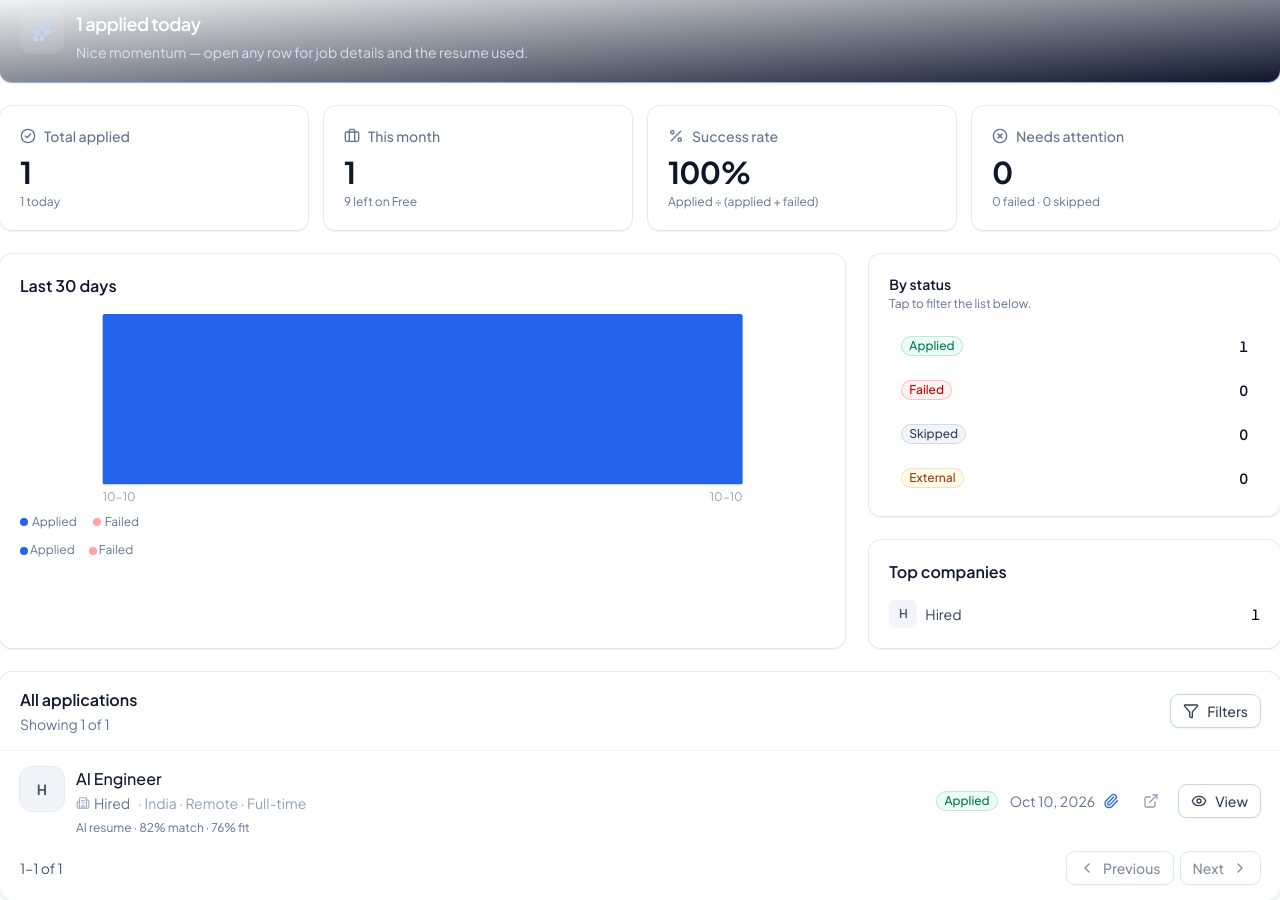
Test: application view › opens a resume popup from the attachment icon next to the date
(page scrolled)
Step 1. Click the button named "Open resume Ada_AI Engineer_Hired_5 years" → {"x": 1111, "y": 802}, box [1099, 790, 1123, 814]
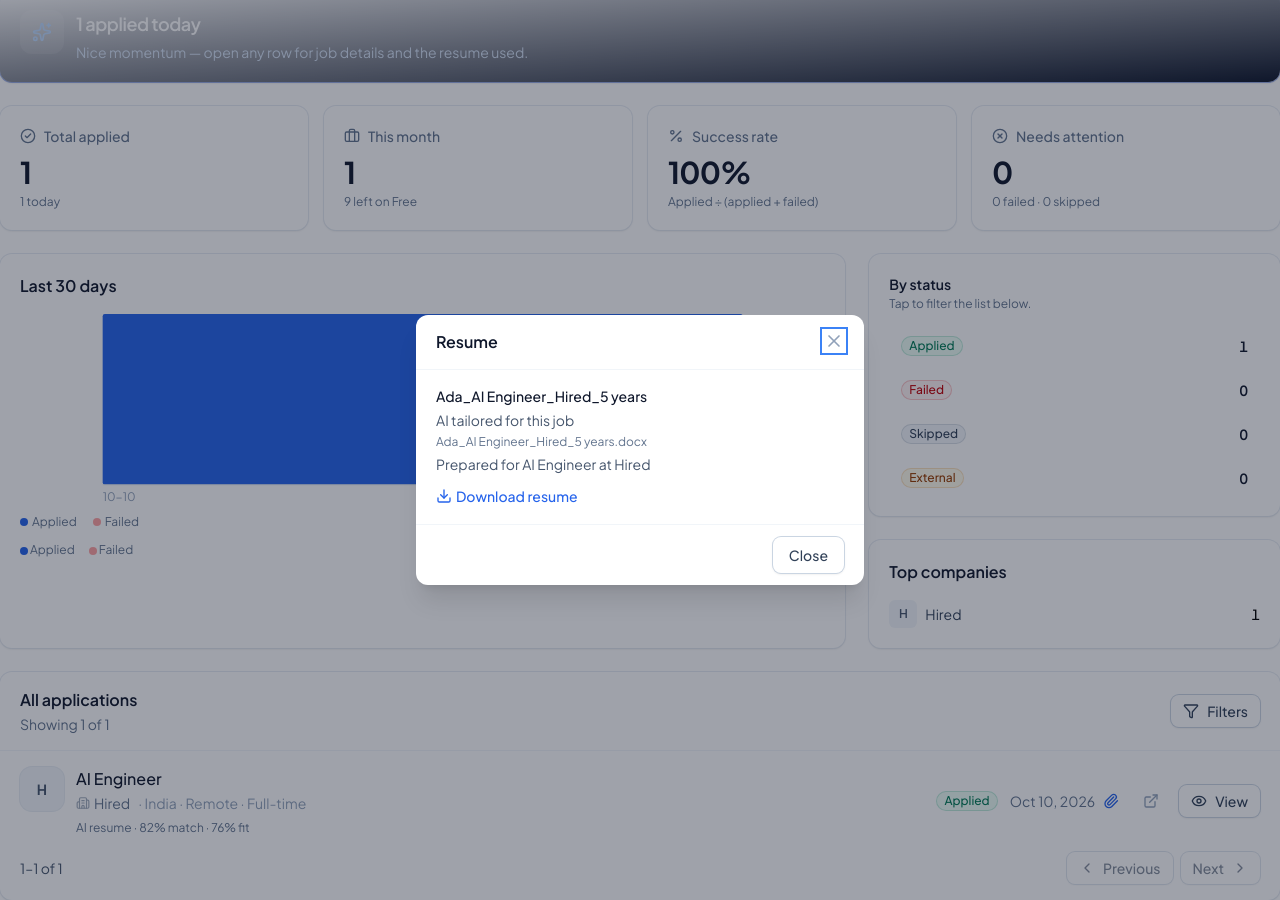
Now the dialog shows "Download resume", box [436, 486, 578, 506]
Now the dialog shows "Resume", box [436, 331, 498, 352]
